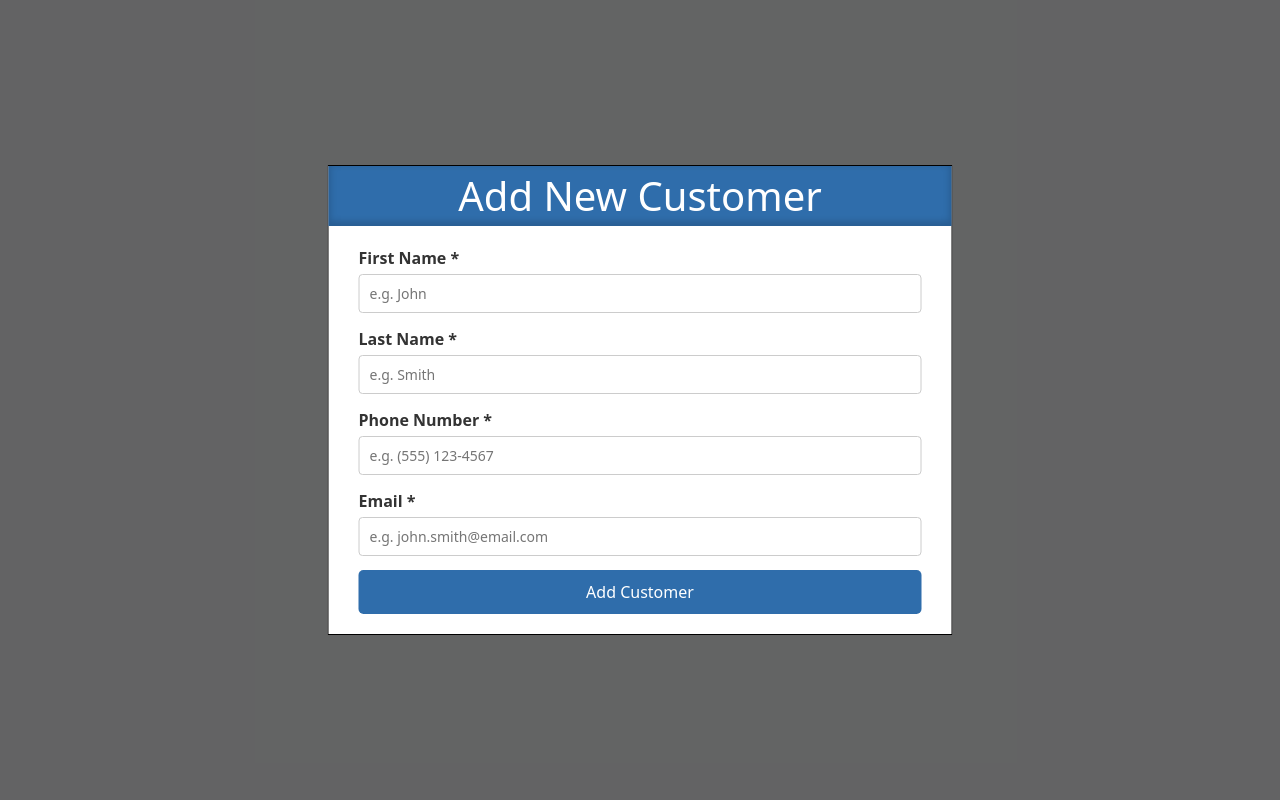
Test case: AdminNewCustomer › clears submit error when user types again
The width and height of the screenshot is (1280, 800).
Type "John" into the field labelled "First Name *" at (640, 294), box x1=358 y1=274 x2=922 y2=313
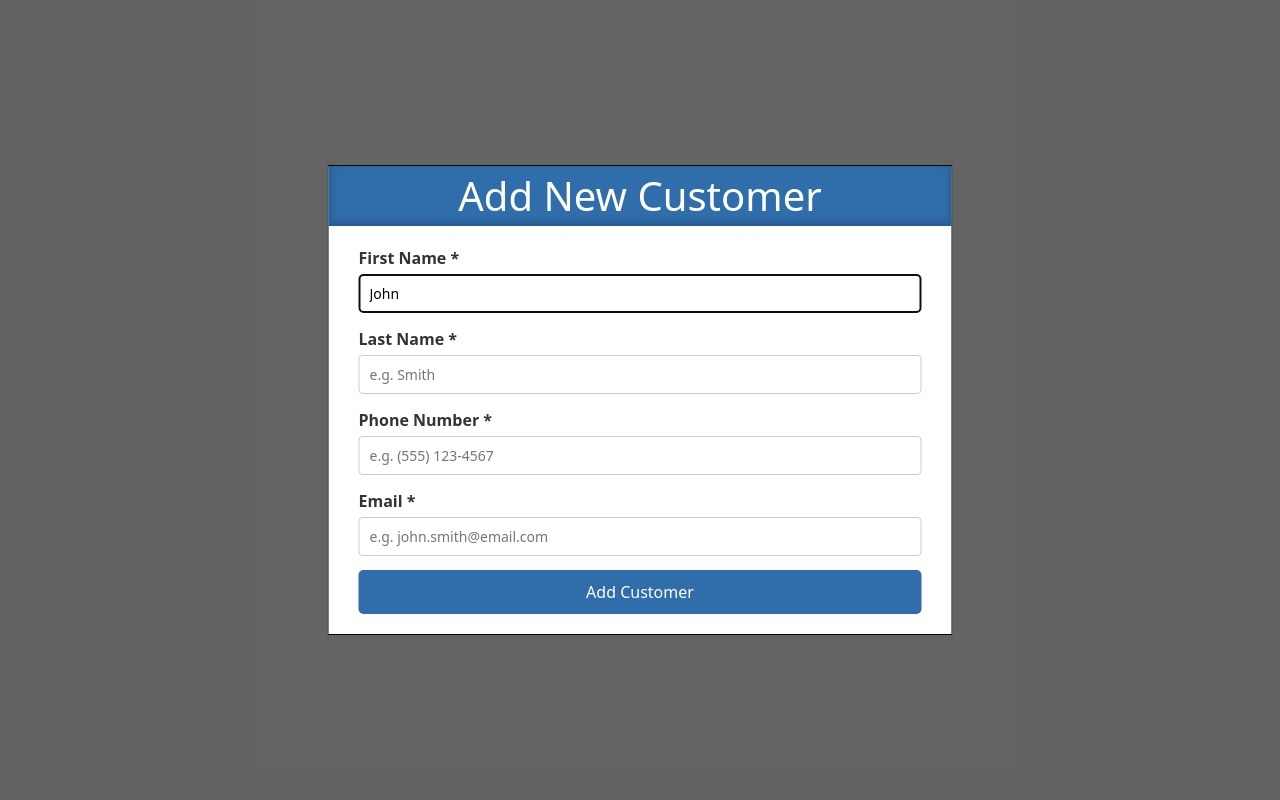
Type "Smith" into the field labelled "Last Name *" at (640, 374), box x1=358 y1=355 x2=922 y2=394
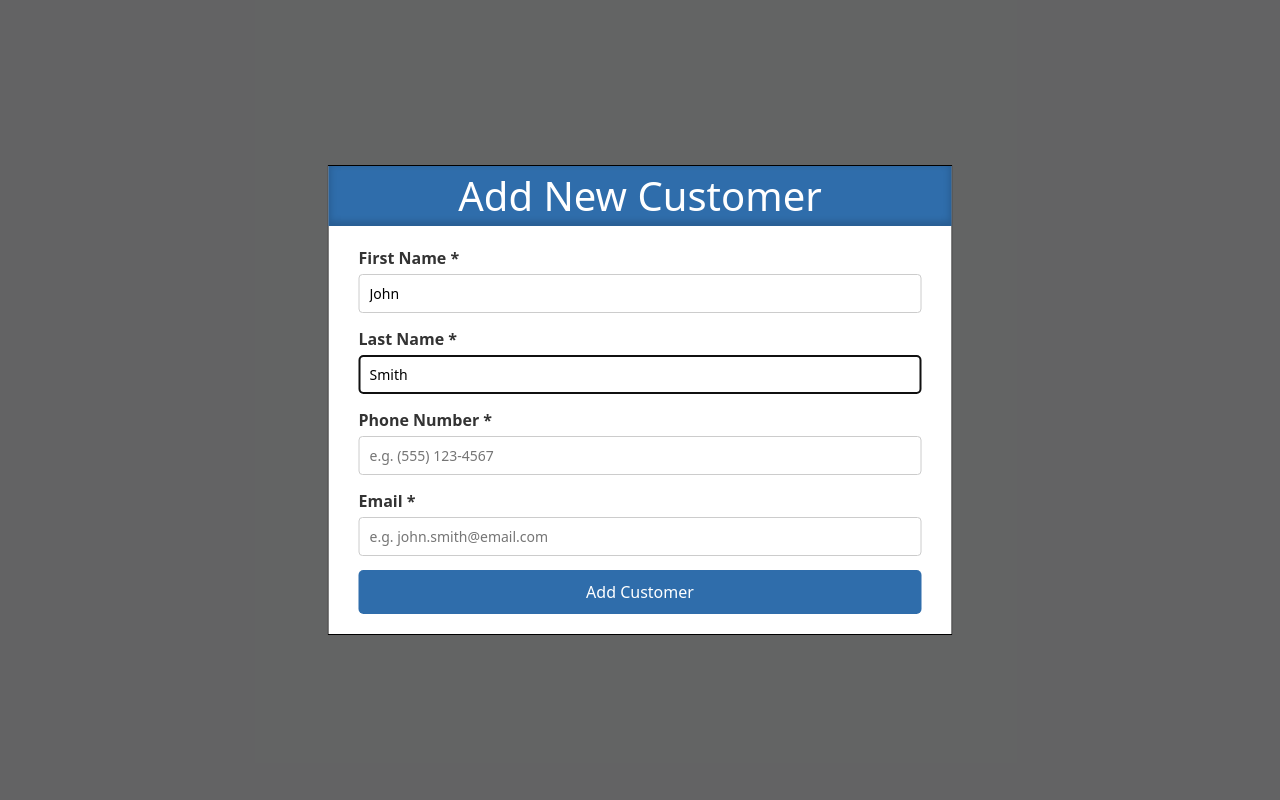
Type "1234567890" into the field labelled "Phone Number *" at (640, 456), box x1=358 y1=436 x2=922 y2=475
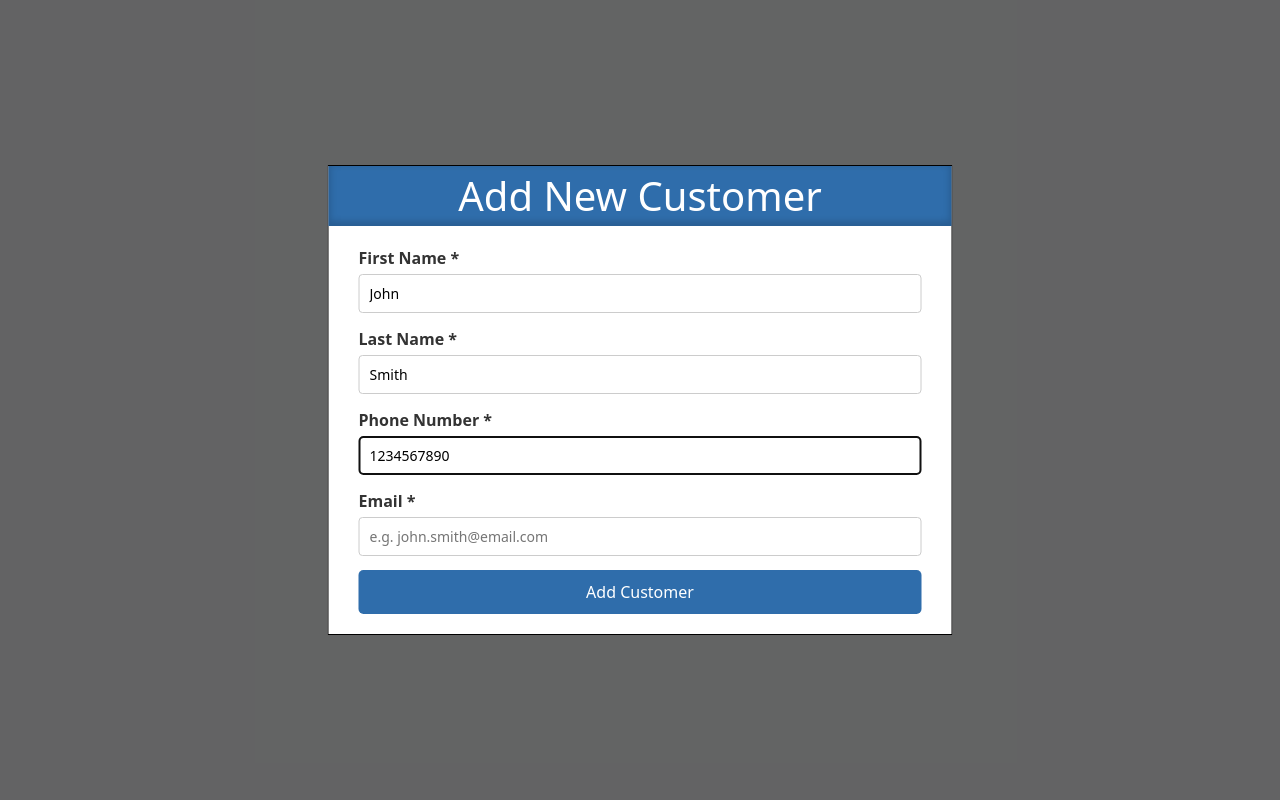
Type "john.smith@email.com" into the field labelled "Email *" at (640, 536), box x1=358 y1=517 x2=922 y2=556
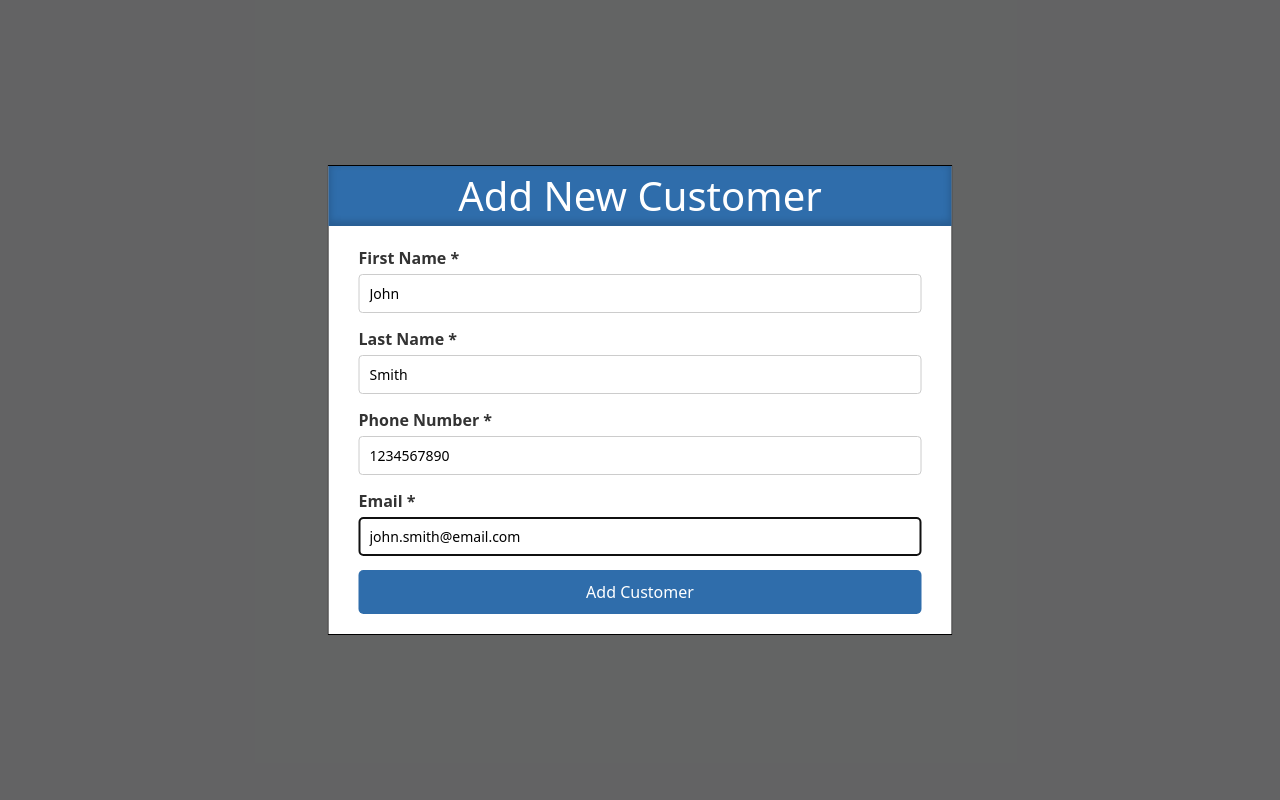
Click the button "Add Customer" at (640, 592), box x1=358 y1=570 x2=922 y2=614
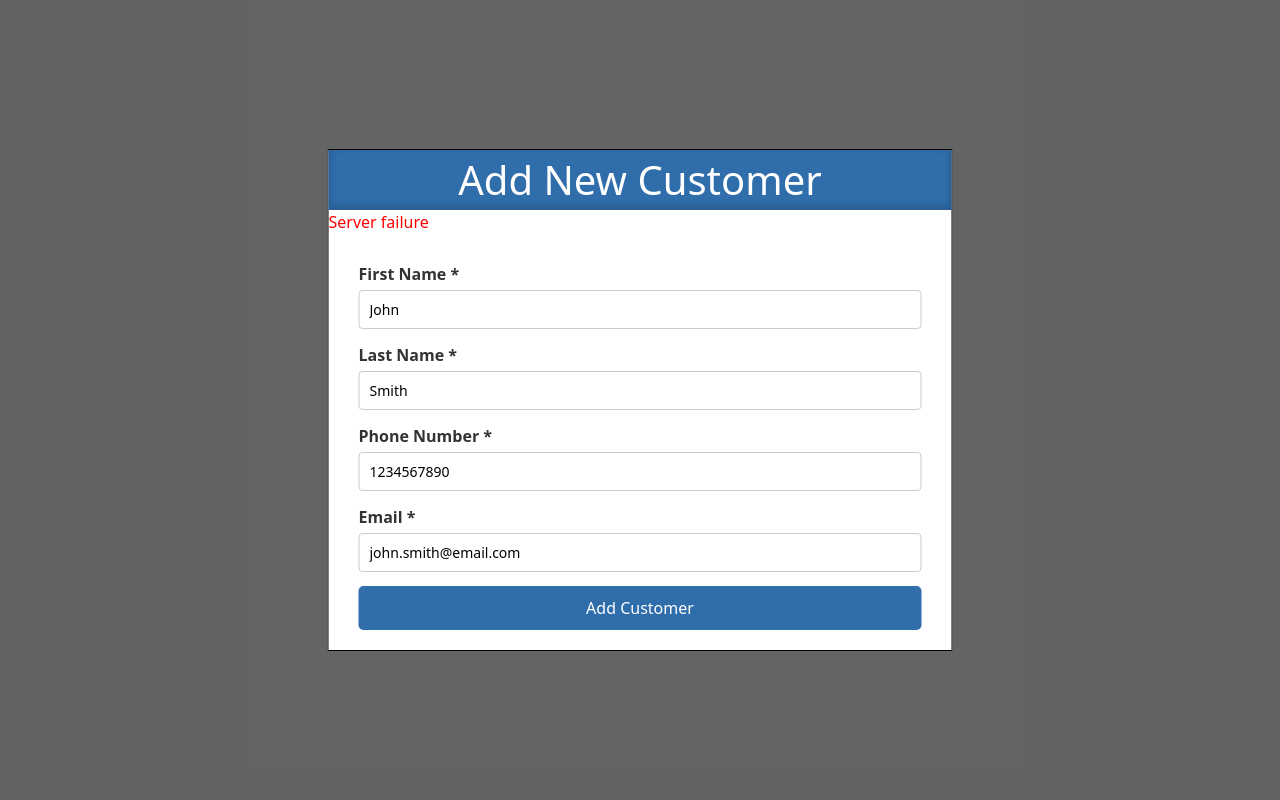
Expected: the message reads "Server failure", x1=328 y1=211 x2=429 y2=233
Type "a" into the field labelled "First Name *" at (640, 310), box x1=358 y1=290 x2=922 y2=329
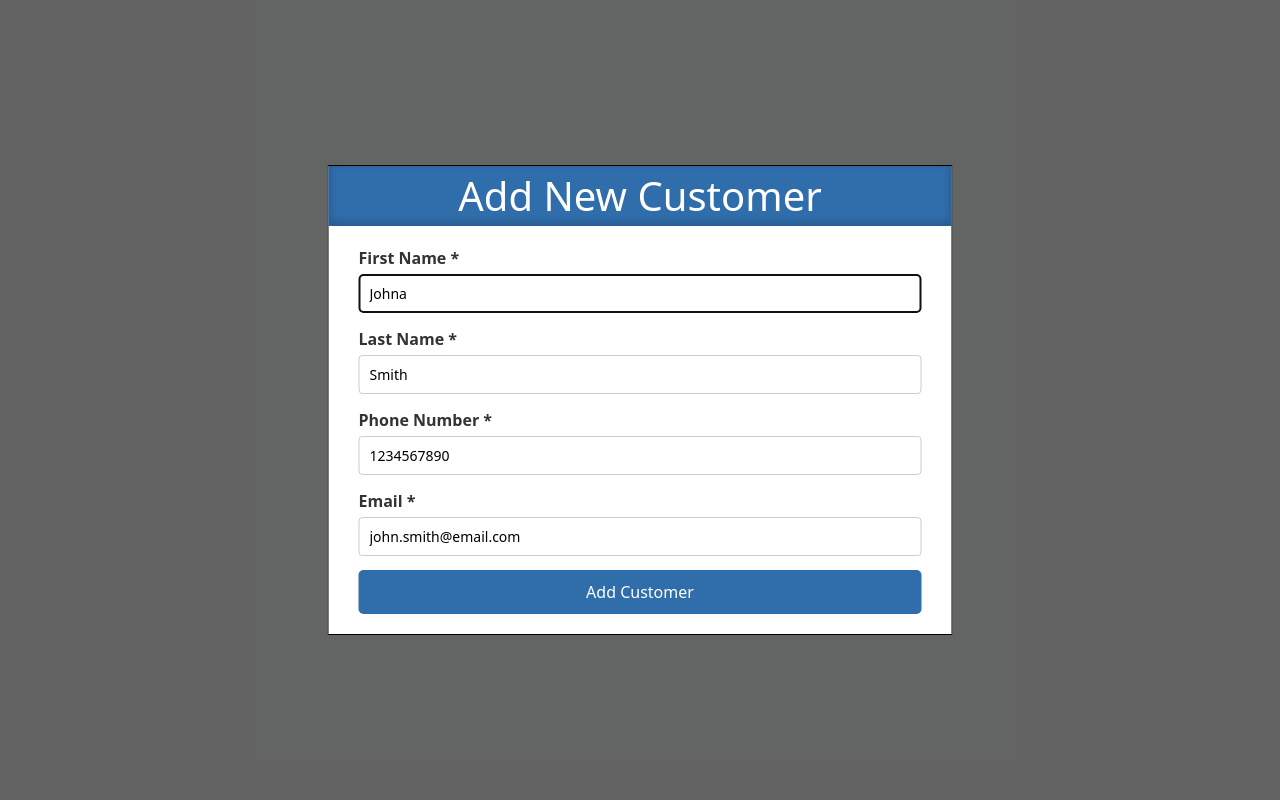
Expected: the message "Server failure" is gone
